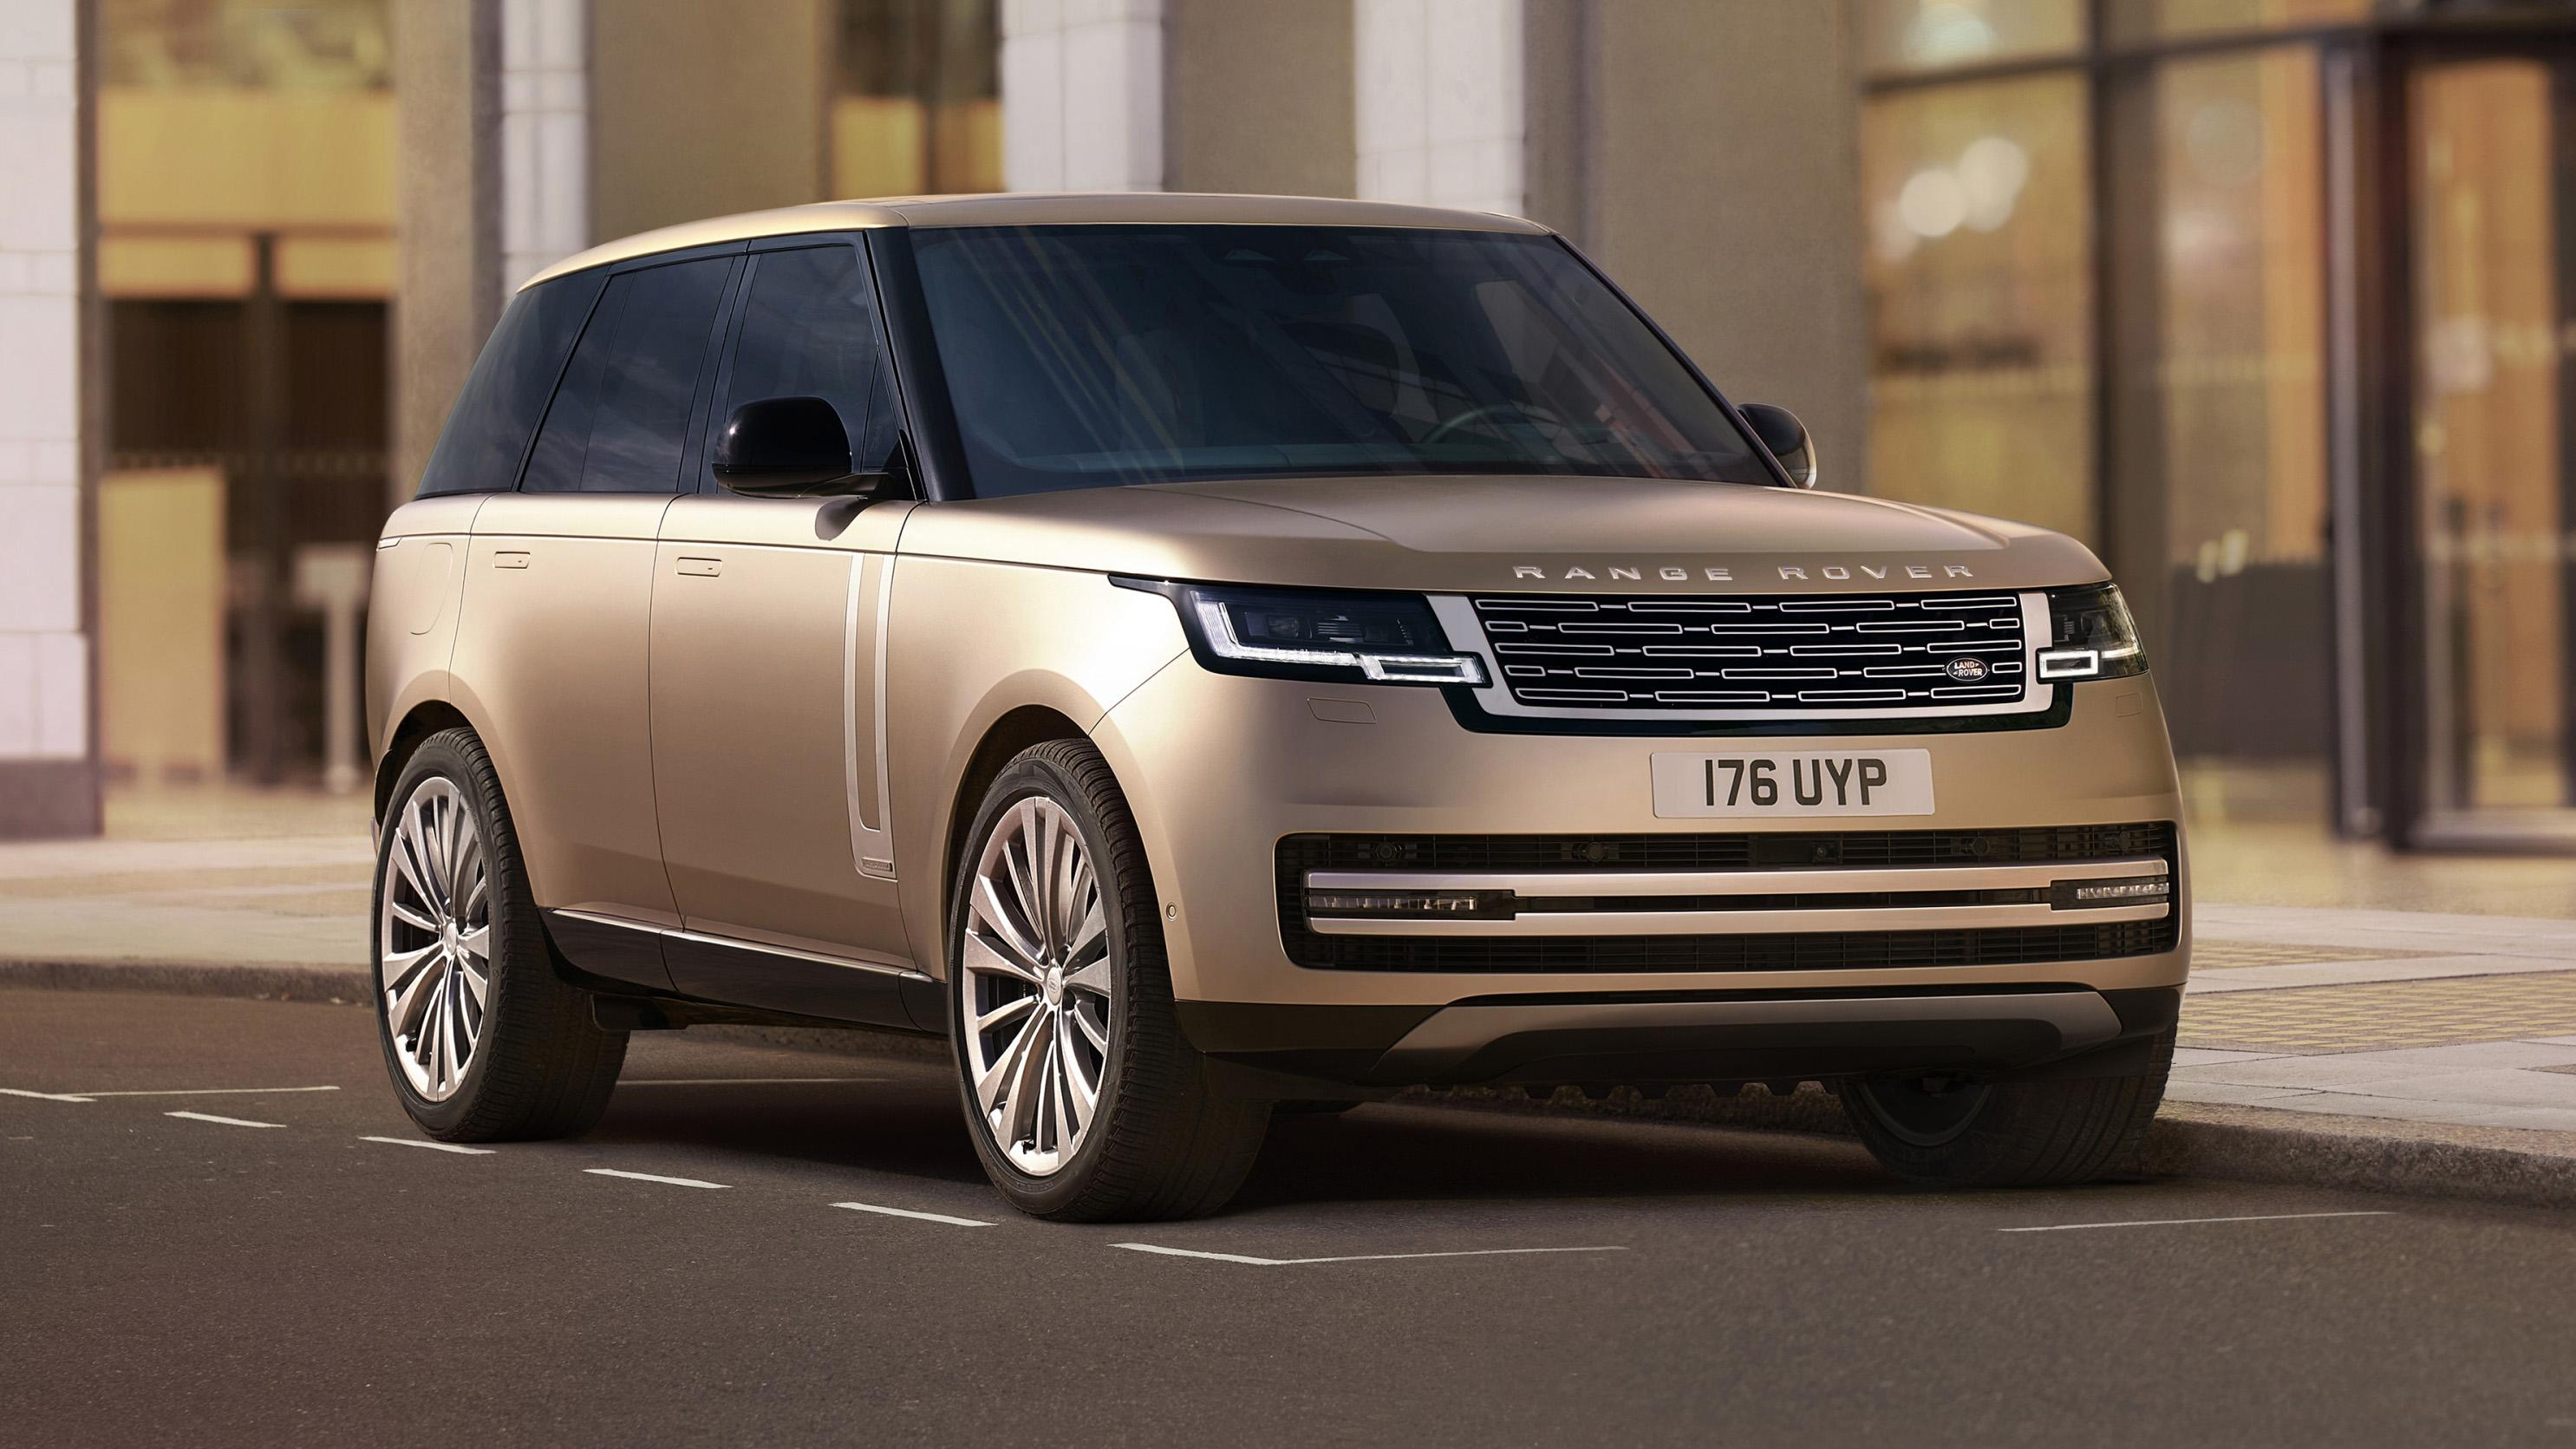range rover: (1506, 541, 1990, 603)
